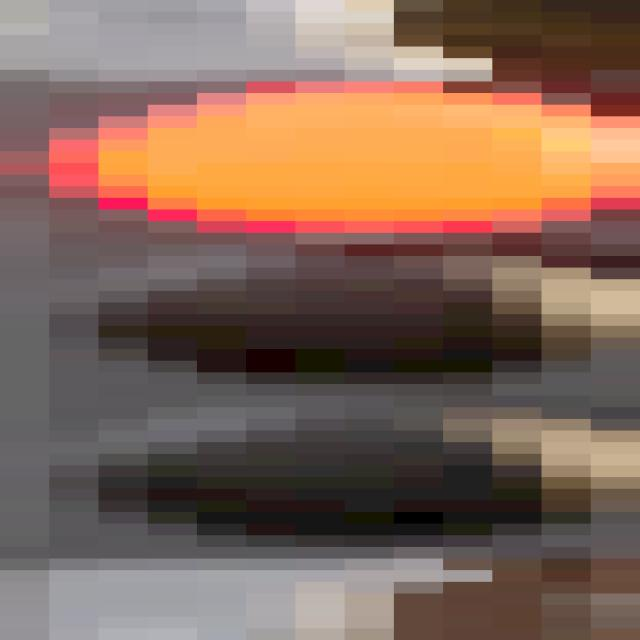red_light: (32, 75, 640, 567)
